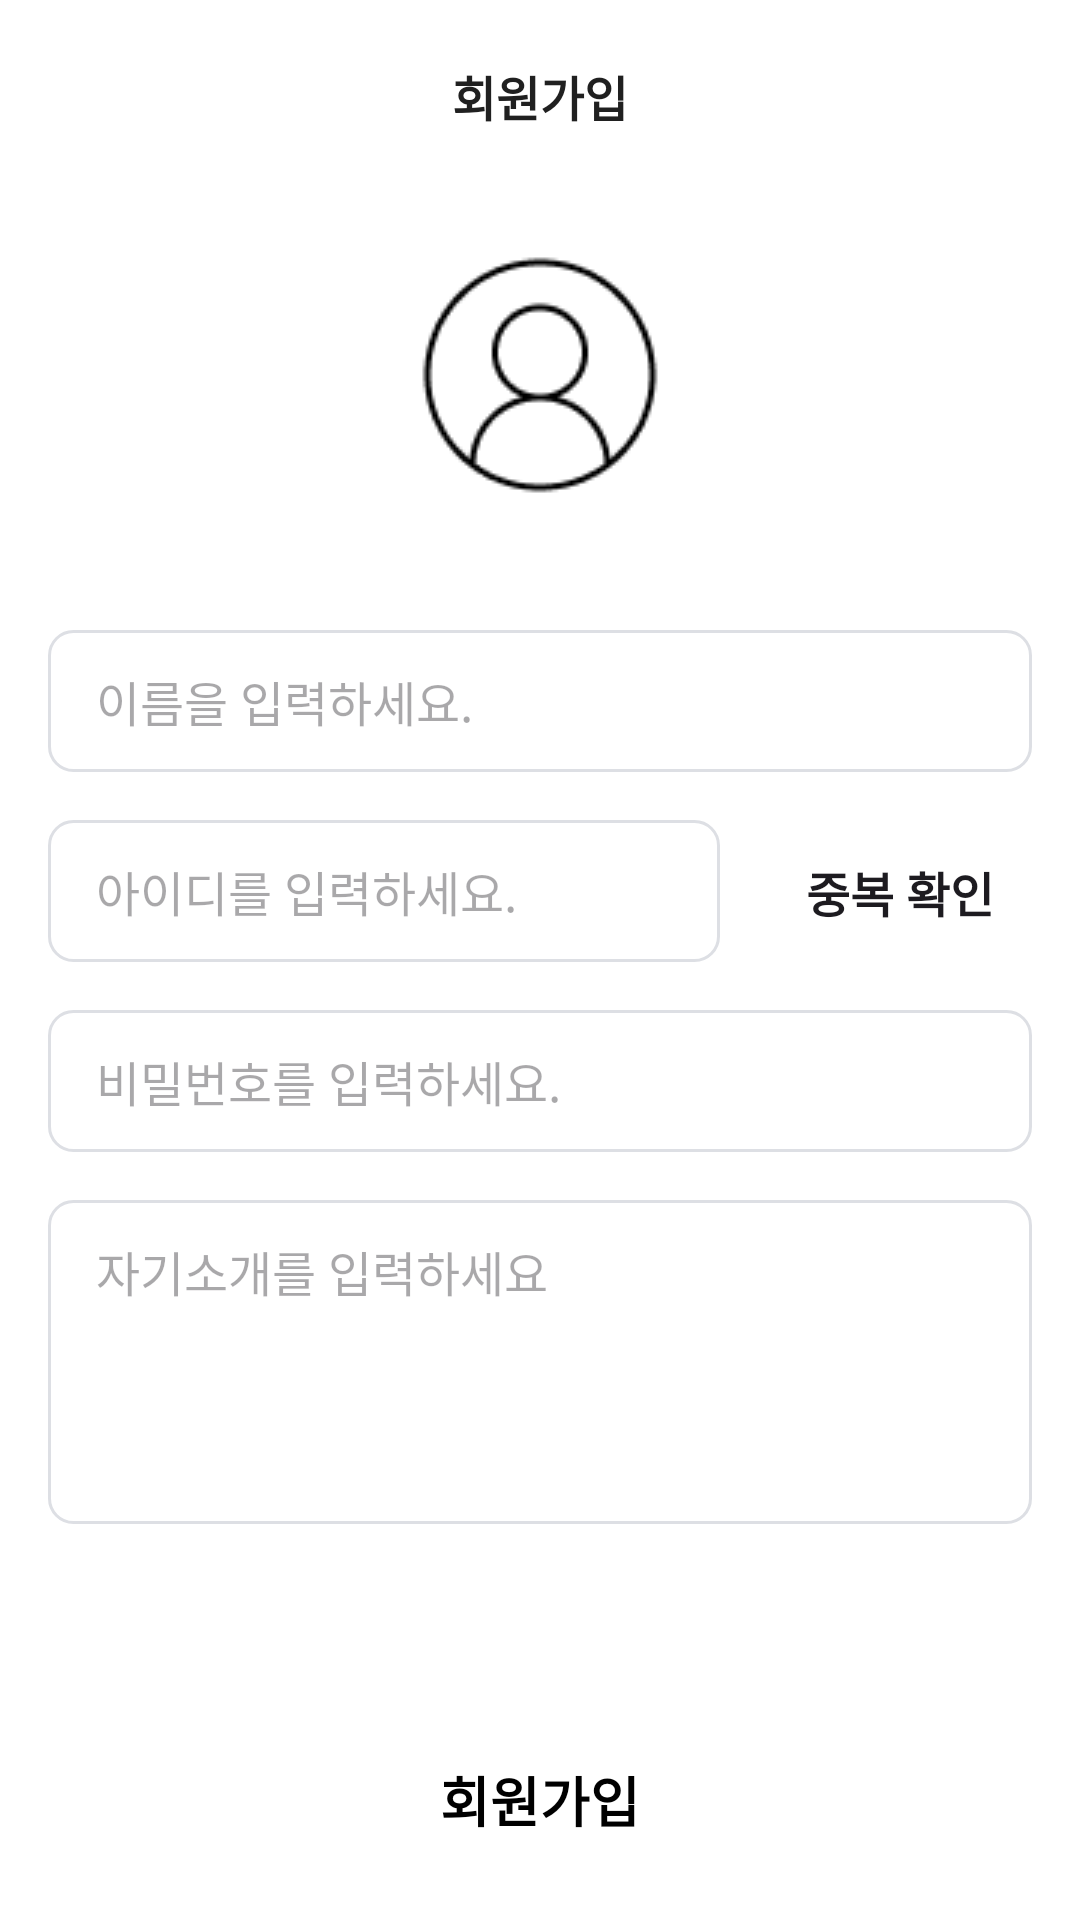

Named icons in this screenshot (1080w x 1920h) and their centers, (x,y):
signup person: (540,375)
